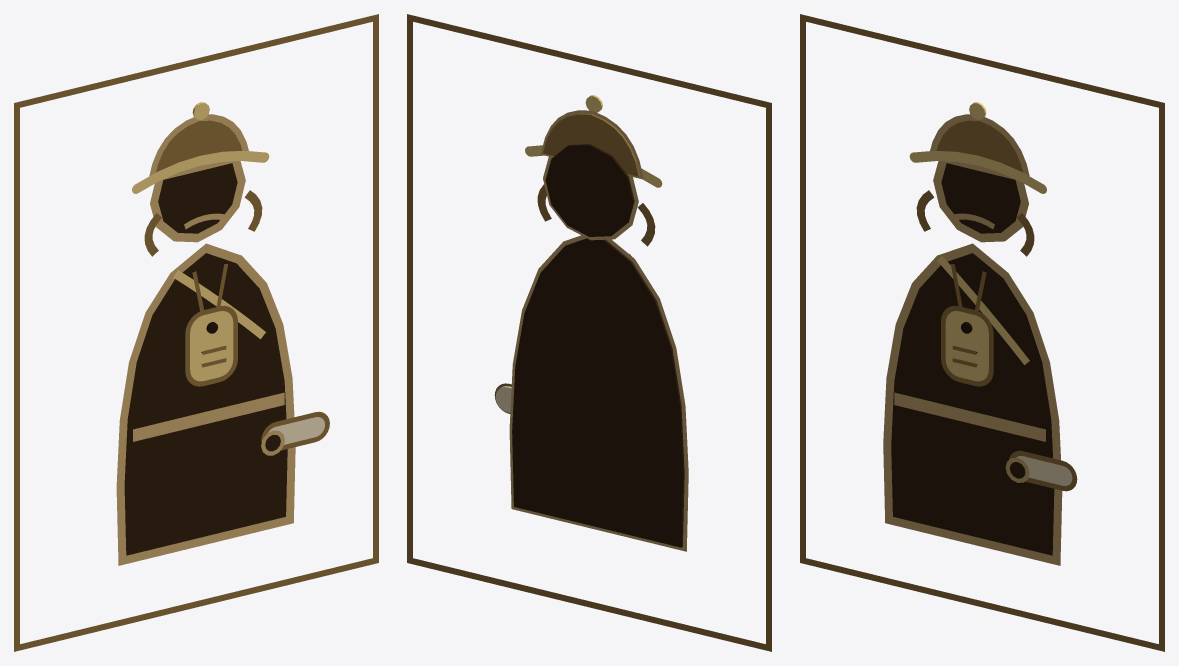
The model's file is npc-darugachi.glb.
3 renders of one model, left to right at view 1: azimuth 30°, elevation 25°; view 2: azimuth 150°, elevation 25°; view 3: azimuth 330°, elevation 25°, orthographic.
Parts seen in each view (by area): view 1: npc-darugachi; view 2: npc-darugachi; view 3: npc-darugachi.
Part boxes in pixels (x1,y1,x2,y2): npc-darugachi: [14, 14, 378, 651]; npc-darugachi: [407, 14, 771, 651]; npc-darugachi: [800, 14, 1164, 651].
Bounding box in the file's own units: 1.14 × 1.64 × 0.1129.
